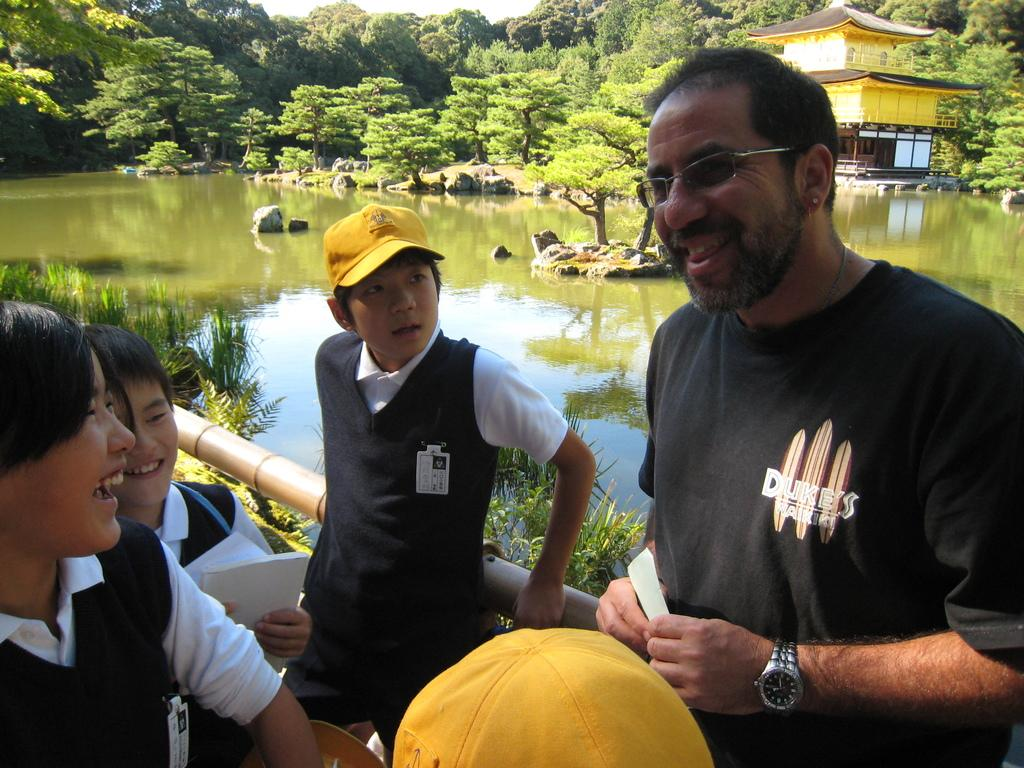Hat: (322, 202, 443, 296)
